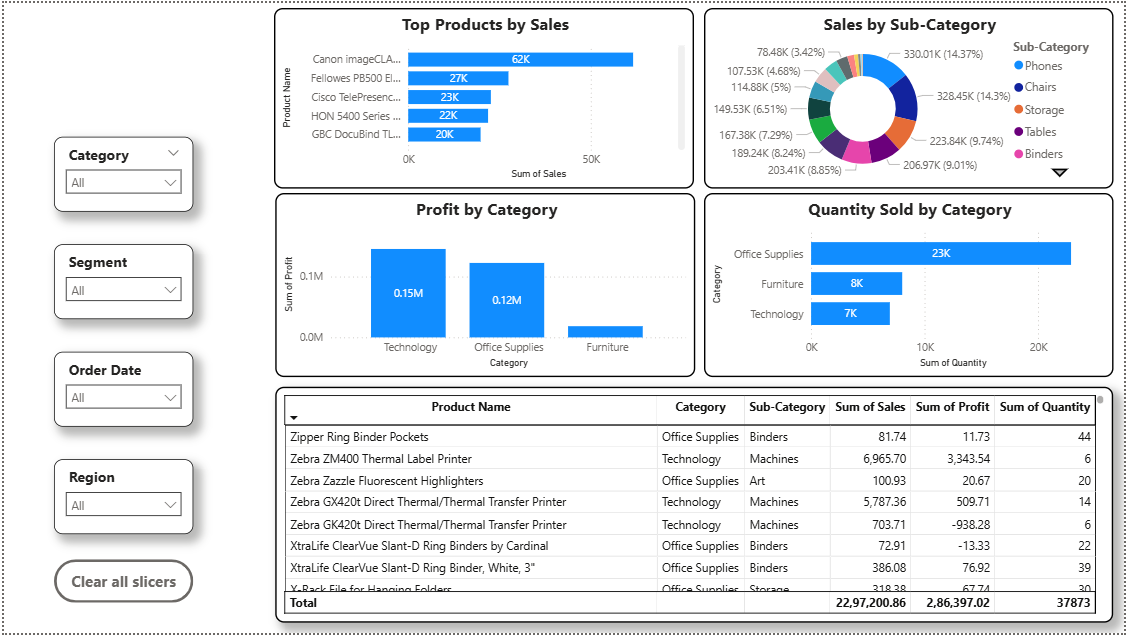

What the dashboard file says about the page in this screenshot:
{"tool":"powerbi","page":{"name":"Product Analysis","canvas":[1280,720],"ordinal":1},"visuals":[{"type":"barChart","title":"Top Products by Sales","fields":{"Category":["Superstore.Product Name"],"Y":["Sum(Superstore.Sales)"]},"box":[308.5,6.2,480.2,206.5],"z":0},{"type":"donutChart","title":"Sales by Sub-Category","fields":{"Category":["Superstore.Sub-Category"],"Y":["Sum(Superstore.Sales)"]},"box":[799.9,6.2,467.7,206.5],"z":1000},{"type":"clusteredColumnChart","title":"Profit by Category","fields":{"Category":["Superstore.Category"],"Y":["Sum(Superstore.Profit)"]},"box":[309.7,217.7,480.2,210.2],"z":2000},{"type":"barChart","title":"Quantity Sold by Category","fields":{"Category":["Superstore.Category"],"Y":["Sum(Superstore.Quantity)"]},"box":[799.9,217.7,467.7,210.2],"z":3000},{"type":"tableEx","fields":{"Values":["Superstore.Product Name","Superstore.Category","Superstore.Sub-Category","Sum(Superstore.Sales)","Sum(Superstore.Profit)","Sum(Superstore.Quantity)"]},"box":[309.7,439.1,957.8,269.9],"z":4000},{"type":"slicer","fields":{"Values":["Superstore.Category"]},"box":[56.7,152.5,159.2,85.8],"z":5000},{"type":"slicer","fields":{"Values":["Superstore.Region"]},"box":[56.7,521,159.2,85.8],"z":6000},{"type":"slicer","fields":{"Values":["Superstore.Segment"]},"box":[56.7,275.4,159.2,85.8],"z":7000},{"type":"slicer","fields":{"Values":["Superstore.Order Date"]},"box":[56.7,398.2,159.2,85.8],"z":8000},{"type":"actionButton","box":[57.2,635.7,159.2,49.8],"z":9000}]}

Visuals, with their boxes in screenshot pixels (x1, y1, x2, y2), scaled from the page's 1280x720 canvas onto the 1127x635 screenshot:
"Top Products by Sales" barChart: bbox=(272, 5, 694, 188)
"Sales by Sub-Category" donutChart: bbox=(704, 5, 1116, 188)
"Profit by Category" clusteredColumnChart: bbox=(273, 192, 695, 377)
"Quantity Sold by Category" barChart: bbox=(704, 192, 1116, 377)
tableEx - Superstore.Product Name x Superstore.Category: bbox=(273, 387, 1116, 625)
slicer - Superstore.Category: bbox=(50, 134, 190, 210)
slicer - Superstore.Region: bbox=(50, 459, 190, 535)
slicer - Superstore.Segment: bbox=(50, 243, 190, 319)
slicer - Superstore.Order Date: bbox=(50, 351, 190, 427)
actionButton: bbox=(50, 561, 191, 605)
